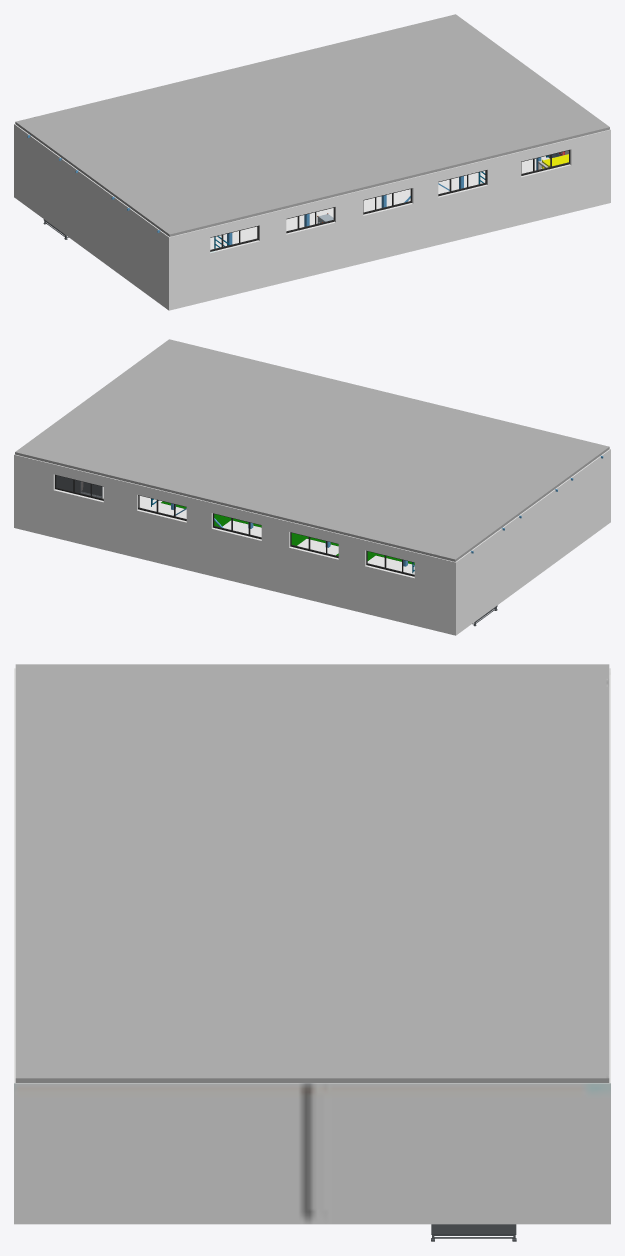
The model's file is Static.glb.
The picture shows the model from 3 angles, top to bottom: view 1: azimuth 30°, elevation 25°; view 2: azimuth 150°, elevation 25°; view 3: azimuth 270°, elevation 25°; orthographic projection. The views are drawn at different scales.
Parts seen in each view (by area): view 1: interior_frame; view 2: interior_frame; view 3: interior_frame.
Part boxes in pixels (x1,y1,x2,y2): interior_frame: (14,14,610,310); interior_frame: (14,339,610,635); interior_frame: (14,664,610,1241).
Size of the model in its own units: 21.7 by 3.99 by 13.13.
20 materials, 12 textured.
